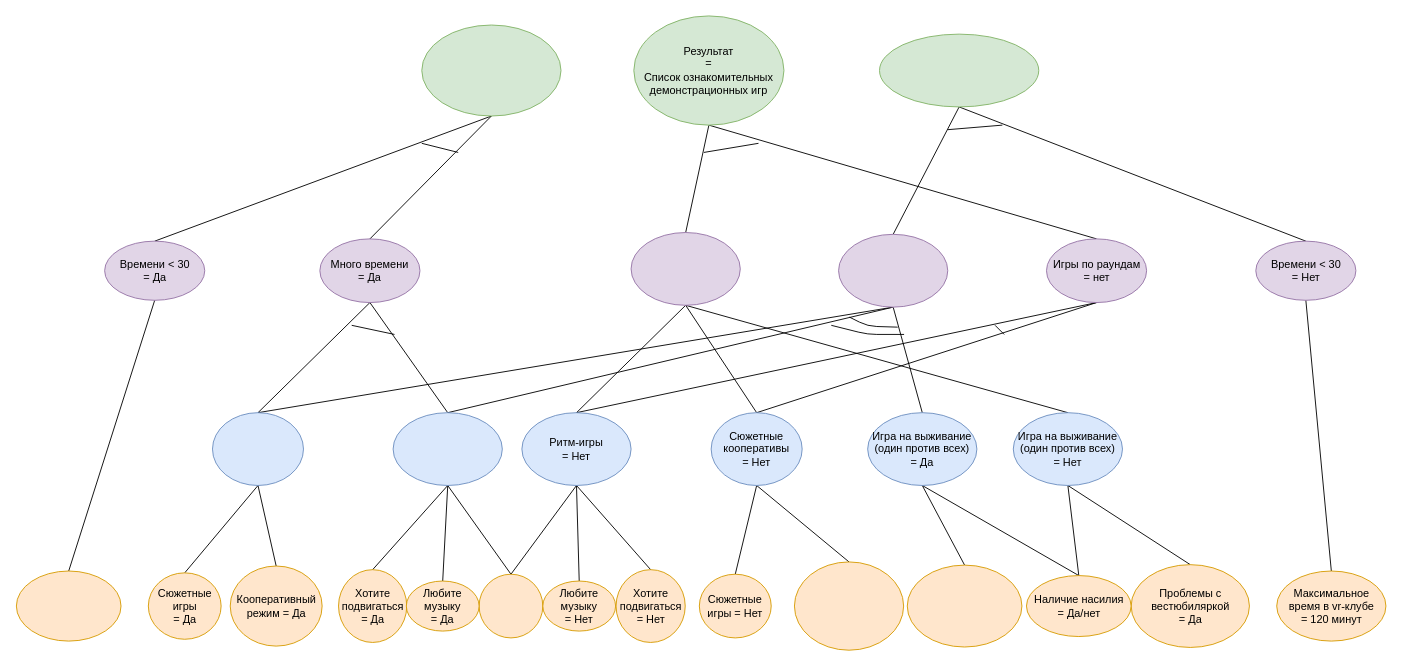
Some shapes in this 1401 by 666 pixel diagram are drawn without their labels. Here are the shapes that lost their labels. From the top down, the centre of each, then its label:
At [491,70]: "Результат = Список кооперативных игр".
At [959,70]: "Результат = Список симуляторов".
At [685,268]: "Мало времени = Нет (мало)".
At [893,270]: "Игры по раундам = Да".
At [257,448]: "Сюжетные кооперативы = Да".
At [447,448]: "Ритм-игры = Да".
At [68,605]: "Максимальное время в vr-клубе = 15 минут".
At [510,605]: "Пришли с друзьями = Да/нет".
At [849,605]: "Кооперативный режим = Нет".
At [964,605]: "Проблемы с вестюбиляркой = Нет".
